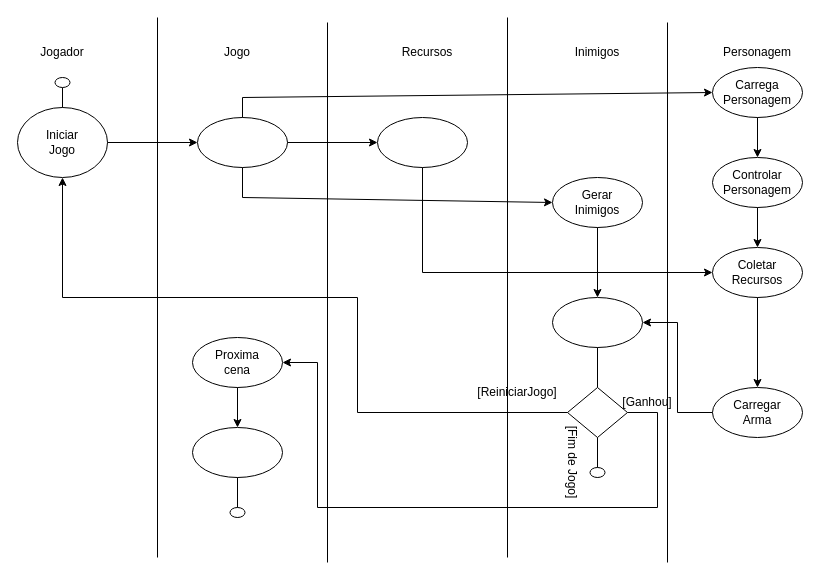
This 820x581 diagram has some shape labels left out. Each missing label, with the centre of its shape:
"cenaFinal" goes at [237,452].
"Confrontar Inimigo" goes at [597,322].
"Gerar cenario" goes at [242,142].
"Gerar Resursos" goes at [422,142].
